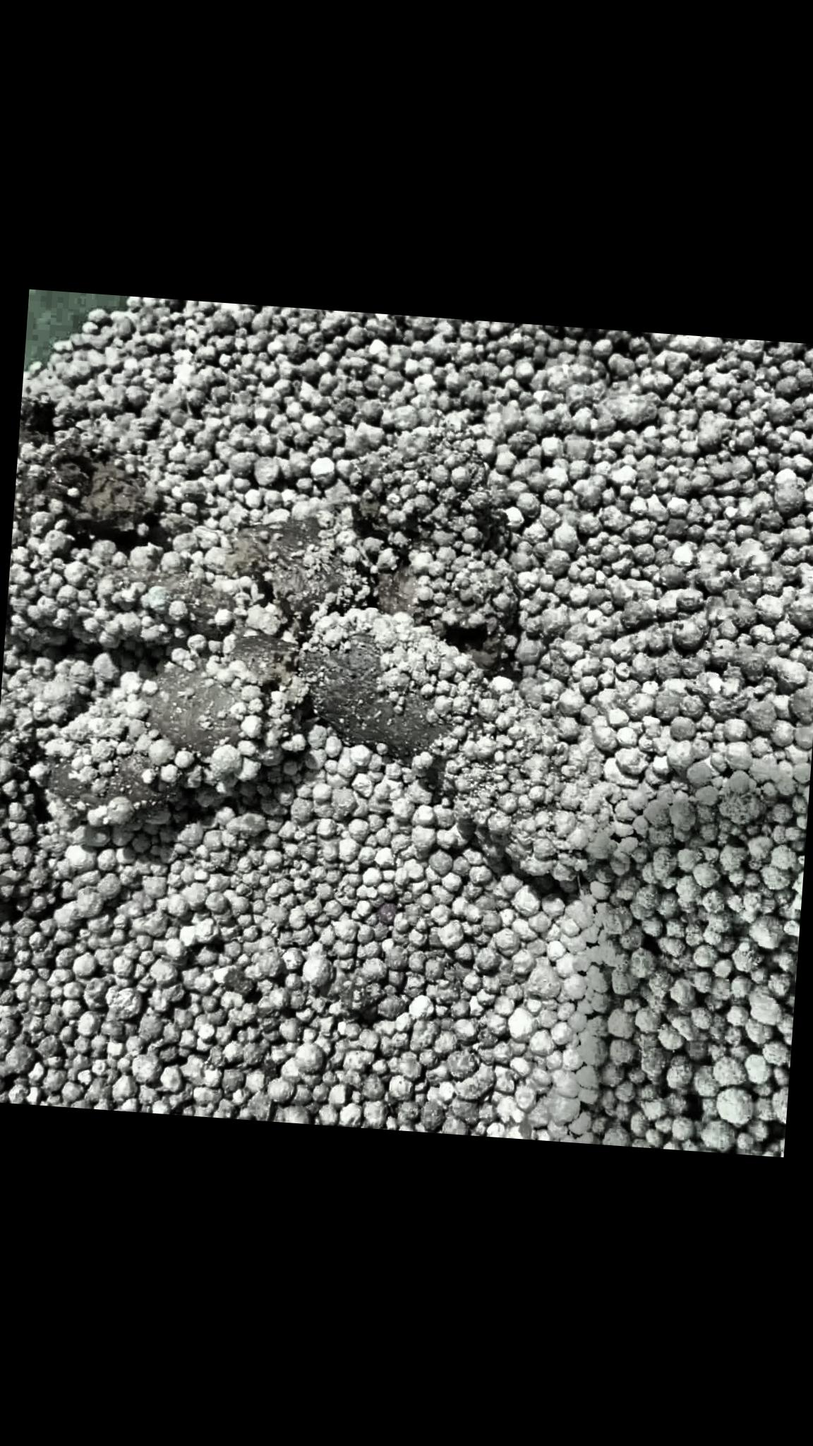poop: (0, 390, 610, 921)
